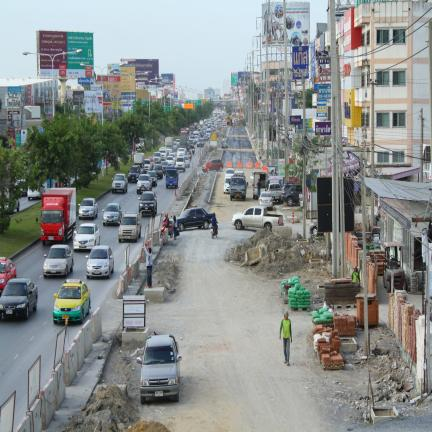car: (0, 278, 38, 319), (43, 244, 73, 277), (86, 245, 114, 278), (177, 208, 212, 231), (73, 223, 100, 250), (282, 184, 302, 206), (102, 203, 122, 225), (78, 198, 98, 219), (202, 159, 223, 172), (258, 192, 273, 210), (268, 183, 282, 202), (147, 170, 157, 188), (176, 156, 185, 172), (223, 177, 231, 194), (224, 168, 234, 180), (159, 148, 167, 162), (267, 166, 278, 175), (166, 156, 175, 167), (161, 160, 168, 174), (153, 152, 161, 163), (183, 155, 190, 167), (177, 147, 186, 156), (234, 170, 245, 176), (169, 152, 177, 160), (92, 249, 95, 252), (252, 178, 253, 181)
human: (279, 310, 292, 366), (145, 246, 152, 288), (211, 212, 218, 235), (351, 266, 359, 282), (173, 215, 178, 240), (257, 179, 262, 199), (163, 213, 169, 228), (188, 150, 192, 160), (266, 180, 270, 190)
motorbike: (160, 223, 166, 239), (211, 225, 217, 239), (168, 221, 173, 237), (211, 226, 217, 239), (192, 149, 195, 155), (218, 220, 219, 222)
pickup: (136, 335, 182, 404), (231, 206, 284, 231), (118, 212, 141, 243), (139, 191, 157, 216), (137, 173, 152, 194), (112, 174, 127, 193), (127, 165, 141, 183), (268, 184, 282, 202), (153, 164, 163, 178), (144, 159, 152, 173)
taxi: (53, 279, 91, 324), (0, 257, 16, 293), (147, 156, 155, 169)
truck: (41, 188, 76, 244), (230, 174, 248, 201), (251, 171, 268, 199), (165, 167, 179, 188), (134, 152, 145, 168), (179, 136, 188, 148), (165, 137, 174, 148), (165, 145, 173, 156)
